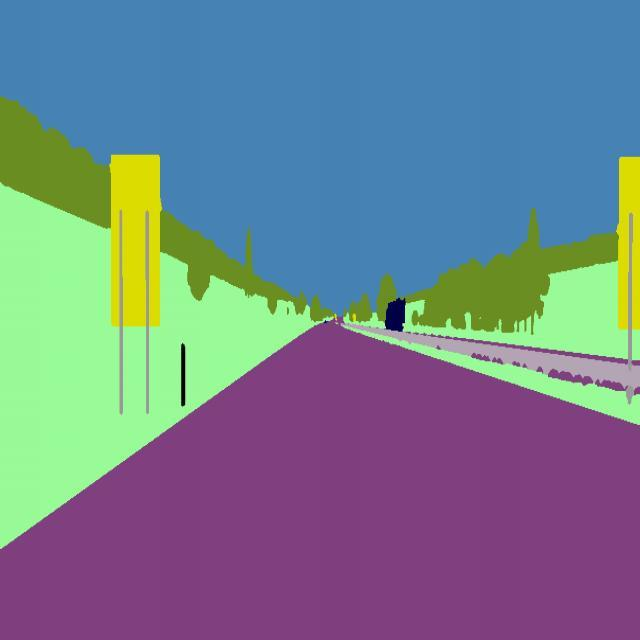safe: (383, 296, 408, 334)
